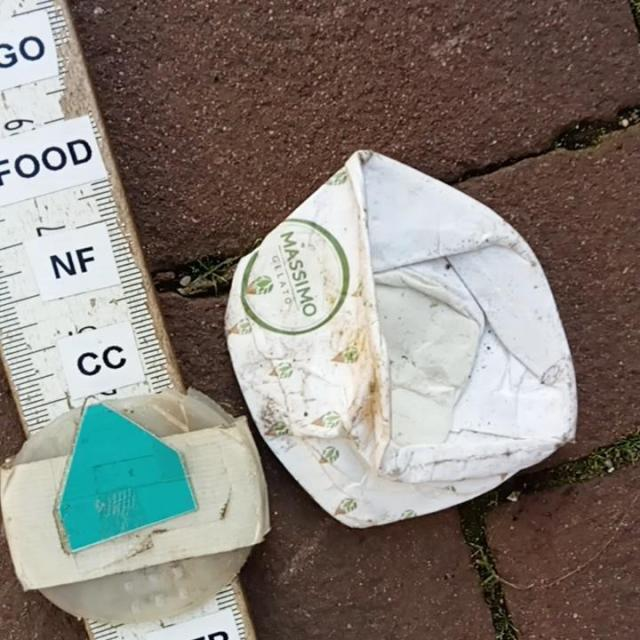Paper: (221, 141, 584, 533)
